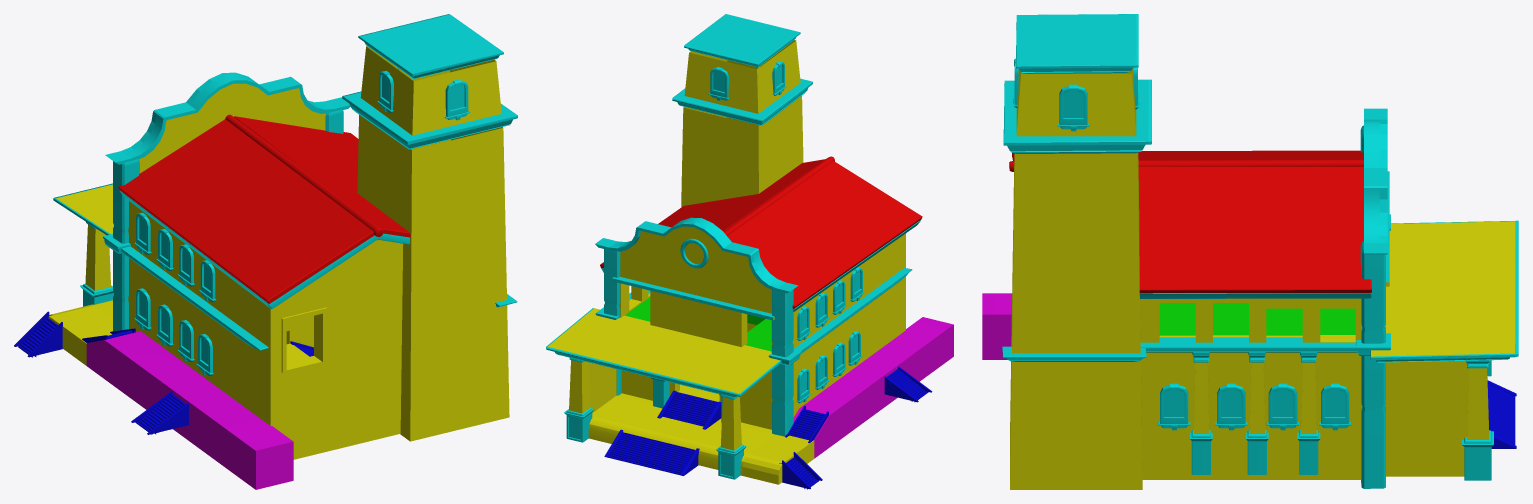
Rendered from church Unity.fbx.
3 views of the same model, side by side, from view 1: azimuth 30°, elevation 25°; view 2: azimuth 150°, elevation 25°; view 3: azimuth 270°, elevation 25° (orthographic). The views are drawn at different scales.
Visible parts, largest first — view 1: churchPainterUnity; view 2: churchPainterUnity; view 3: churchPainterUnity.
Part boxes in pixels (x1,y1,x2,y2): churchPainterUnity: [14, 14, 517, 489]; churchPainterUnity: [546, 14, 953, 489]; churchPainterUnity: [982, 14, 1518, 489].
Size of the model in its own units: 35.32 by 39.94 by 45.31.
